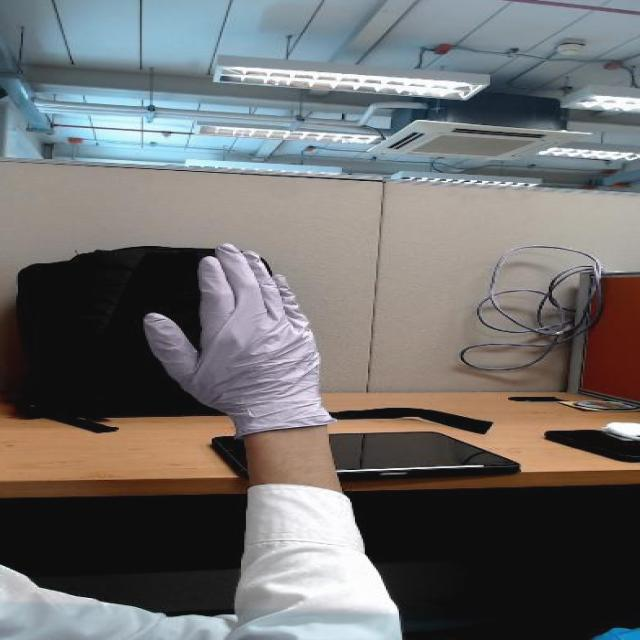glove: (123, 230, 339, 392)
